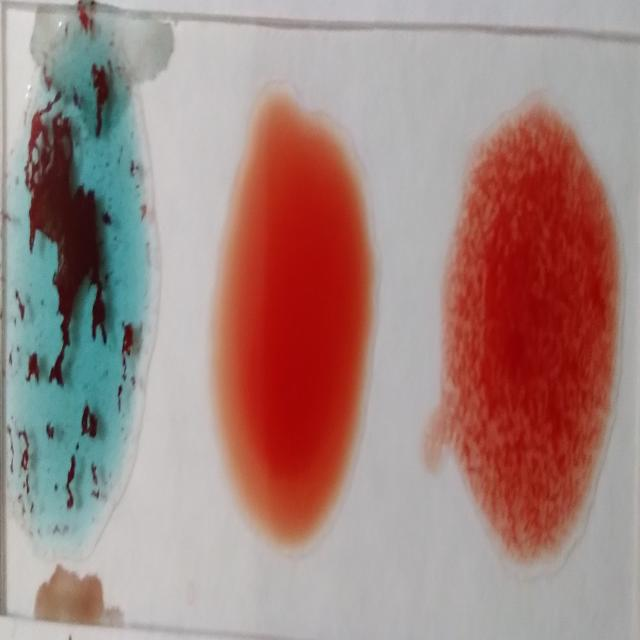A: (4, 54, 153, 531)
D: (444, 116, 624, 555)
